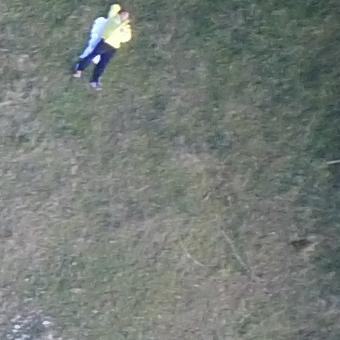human: (69, 0, 137, 92)
